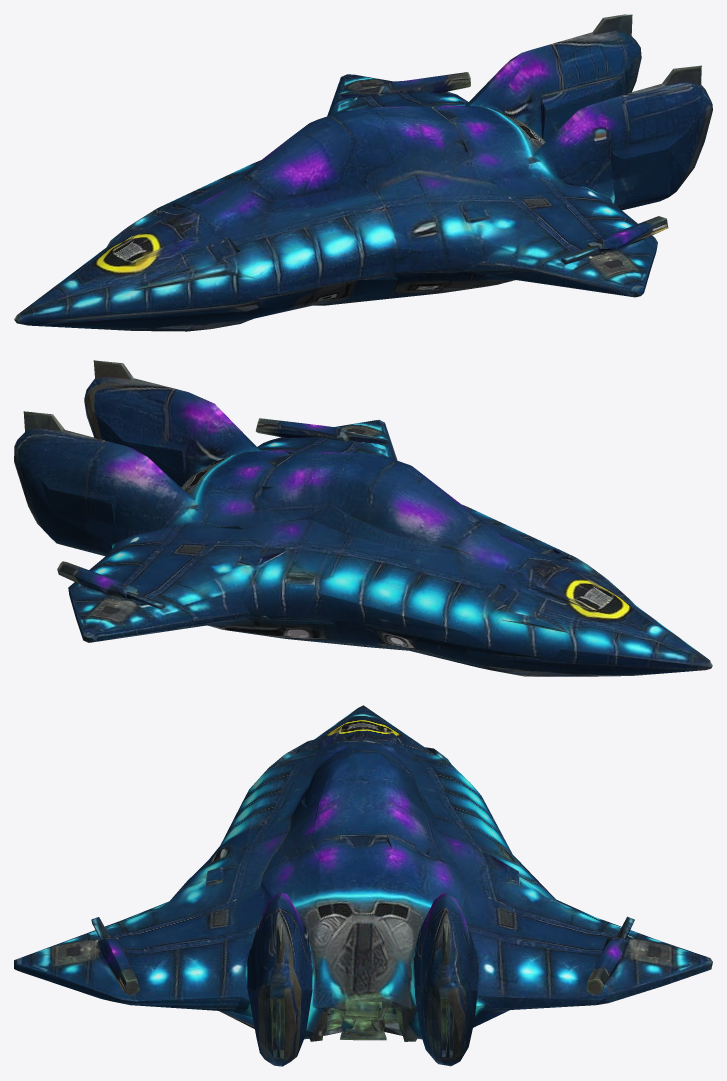
File: nation-c-scout.glb
The picture shows the model from 3 angles, top to bottom: view 1: azimuth 30°, elevation 25°; view 2: azimuth 150°, elevation 25°; view 3: azimuth 270°, elevation 25°; orthographic projection. The views are drawn at different scales.
Bounding box in the file's own units: 1.9 × 0.4504 × 1.47.
1 material, 1 textured.
